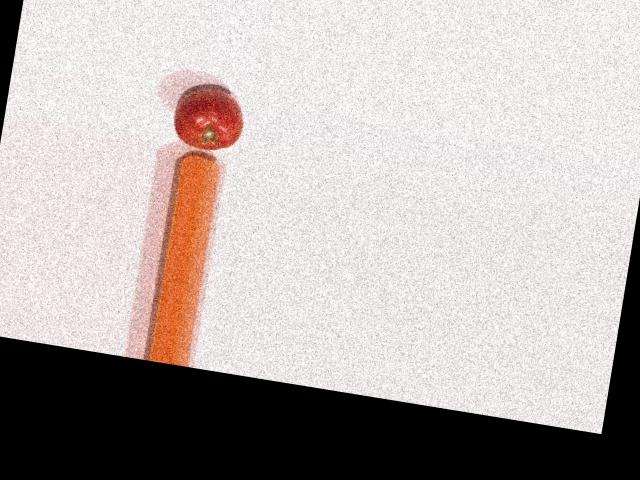tomato: (171, 84, 248, 154)
